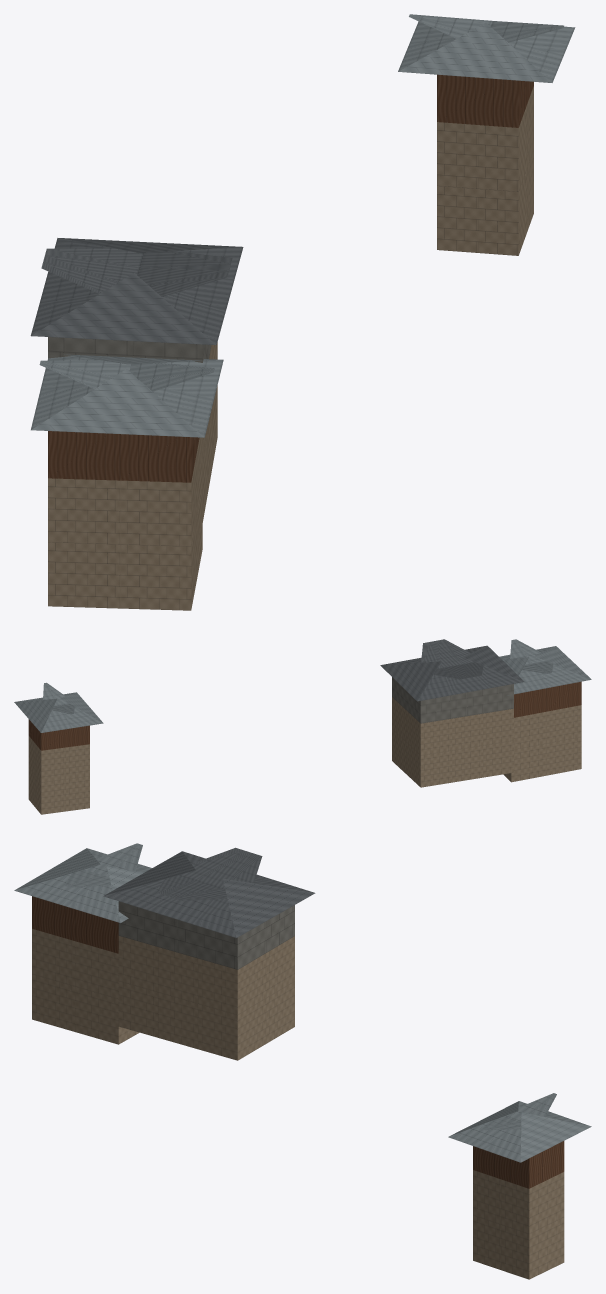
The model's file is bld_c14_36_407.gltf.
3 renders of one model, top to bottom at view 1: azimuth 30°, elevation 25°; view 2: azimuth 150°, elevation 25°; view 3: azimuth 270°, elevation 25°, orthographic. The views are drawn at different scales.
Parts seen in each view (by area): view 1: bld_c14_36_407; view 2: bld_c14_36_407; view 3: bld_c14_36_407.
Boxes of the visible parts, box(x1,y1,x2,y2) form: bld_c14_36_407: box(30, 14, 575, 610); bld_c14_36_407: box(14, 639, 591, 814); bld_c14_36_407: box(14, 843, 591, 1279).
Size of the model in its own units: 31.29 by 9.4 by 25.95.
Materials: 5 (5 with a texture image).
